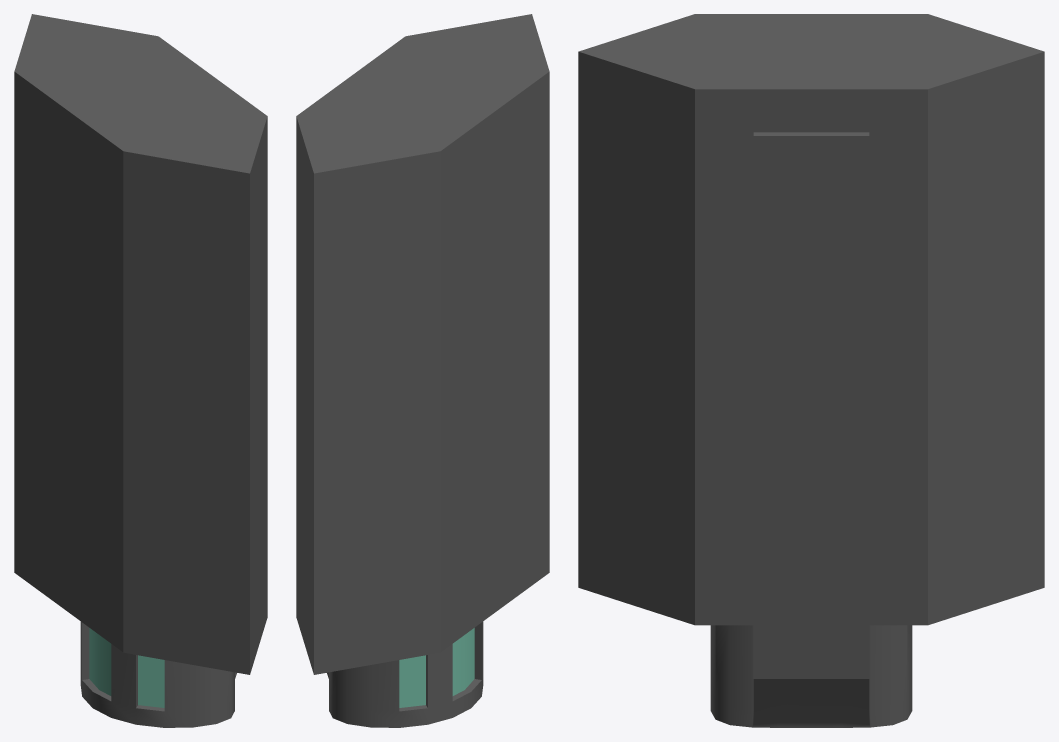
The model's file is FalsePlug2.fbx.
3 views of the same model, side by side, from view 1: azimuth 30°, elevation 25°; view 2: azimuth 150°, elevation 25°; view 3: azimuth 270°, elevation 25° (orthographic). The views are drawn at different scales.
Parts seen in each view (by area): view 1: FalsePlug2; view 2: FalsePlug2; view 3: FalsePlug2.
Boxes of the visible parts, x1=… form: FalsePlug2: x1=14, y1=14, x2=267, y2=727; FalsePlug2: x1=296, y1=14, x2=549, y2=727; FalsePlug2: x1=578, y1=14, x2=1044, y2=727.
Size of the model in its own units: 7.42 by 28.26 by 18.53.
